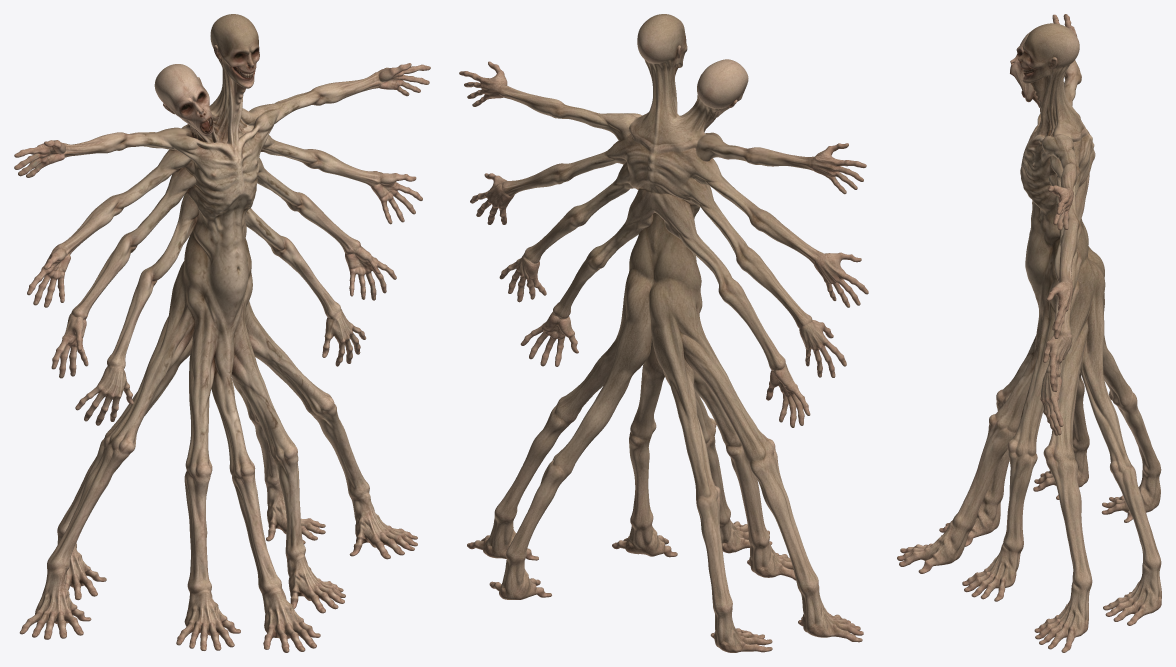
Rendered from TwoHeadedHands.fbx.
3 renders of one model, left to right at view 1: azimuth 30°, elevation 25°; view 2: azimuth 150°, elevation 25°; view 3: azimuth 270°, elevation 25°, orthographic. The views are drawn at different scales.
Visible parts, largest first — view 1: TwoHeadedHands; view 2: TwoHeadedHands; view 3: TwoHeadedHands.
Part boxes in pixels (left/top/right/bottom): TwoHeadedHands: left=14, top=14, right=430, bottom=652; TwoHeadedHands: left=459, top=14, right=868, bottom=652; TwoHeadedHands: left=897, top=14, right=1161, bottom=652.
Size of the model in its own units: 1.43 by 1.91 by 0.8441.
1 material, 1 textured.
